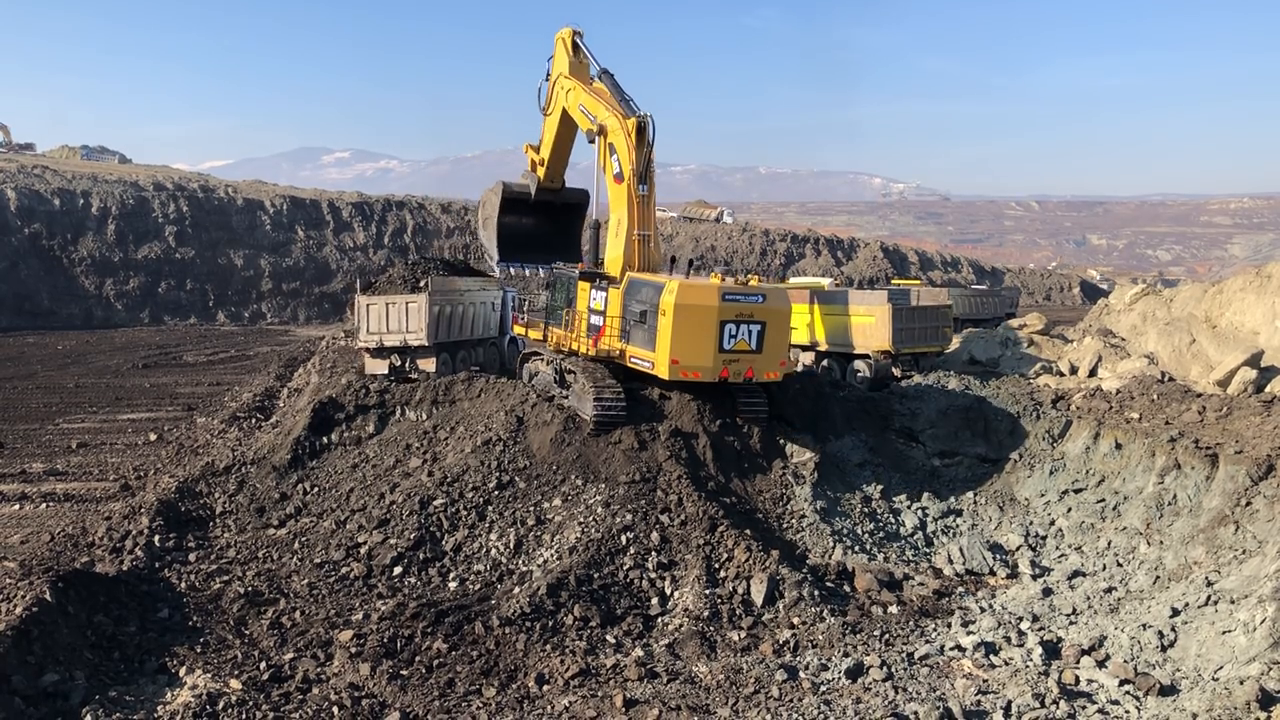full: (482, 179, 590, 278)
